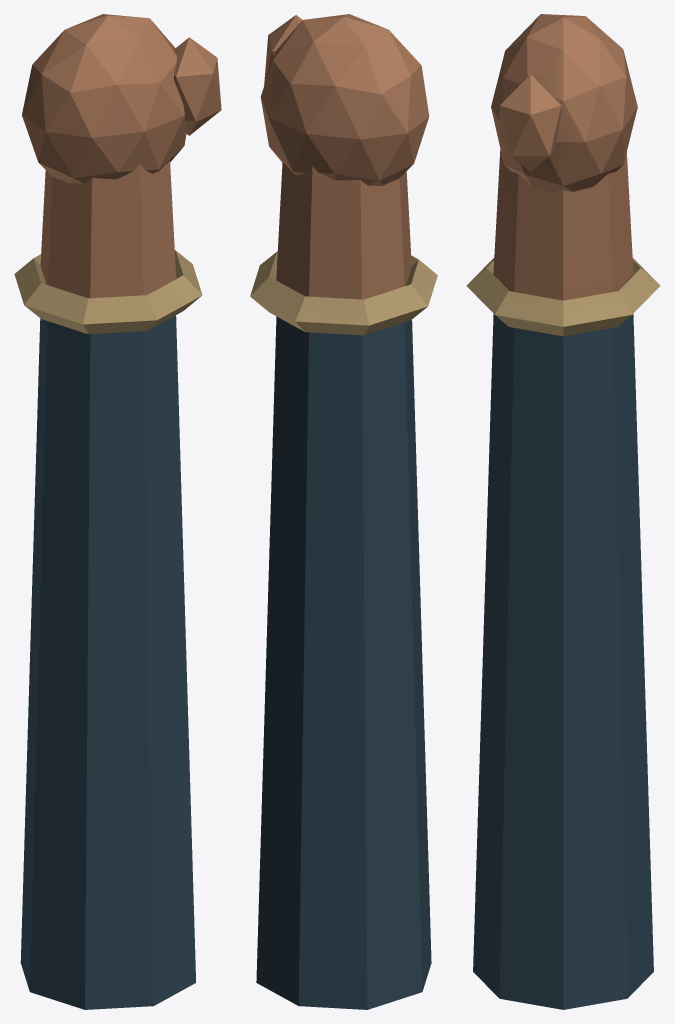
The model's file is Arm.fbx.
3 views of the same model, side by side, from view 1: azimuth 30°, elevation 25°; view 2: azimuth 150°, elevation 25°; view 3: azimuth 270°, elevation 25° (orthographic).
Parts seen in each view (by area): view 1: Arm; view 2: Arm; view 3: Arm.
Boxes of the visible parts, x1,y1,x2,y2 form: Arm: [14, 14, 221, 1009]; Arm: [250, 14, 437, 1009]; Arm: [466, 14, 660, 1009].
Size of the model in its own units: 0.1237 by 0.64 by 0.118.
